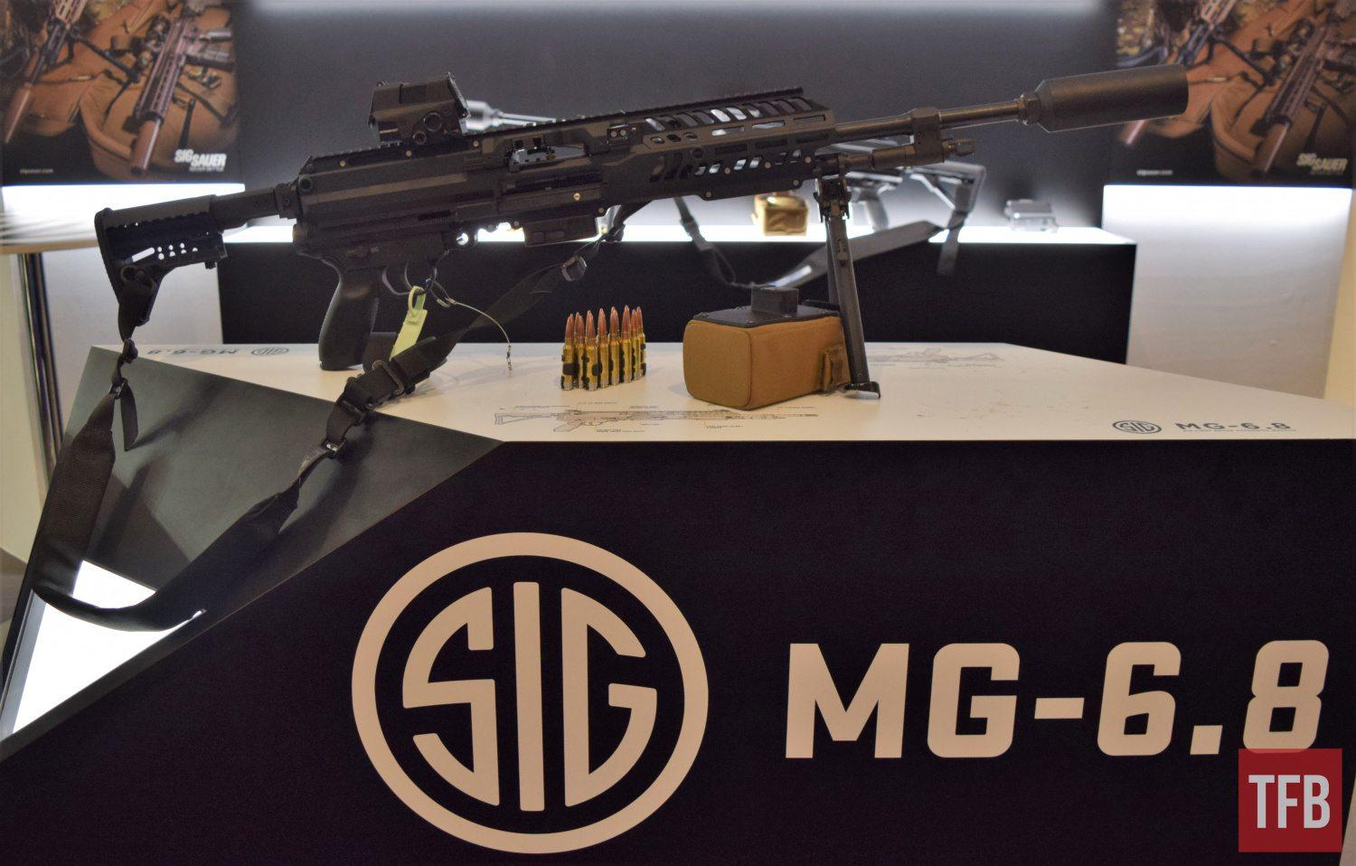larga: (91, 59, 1190, 329)
